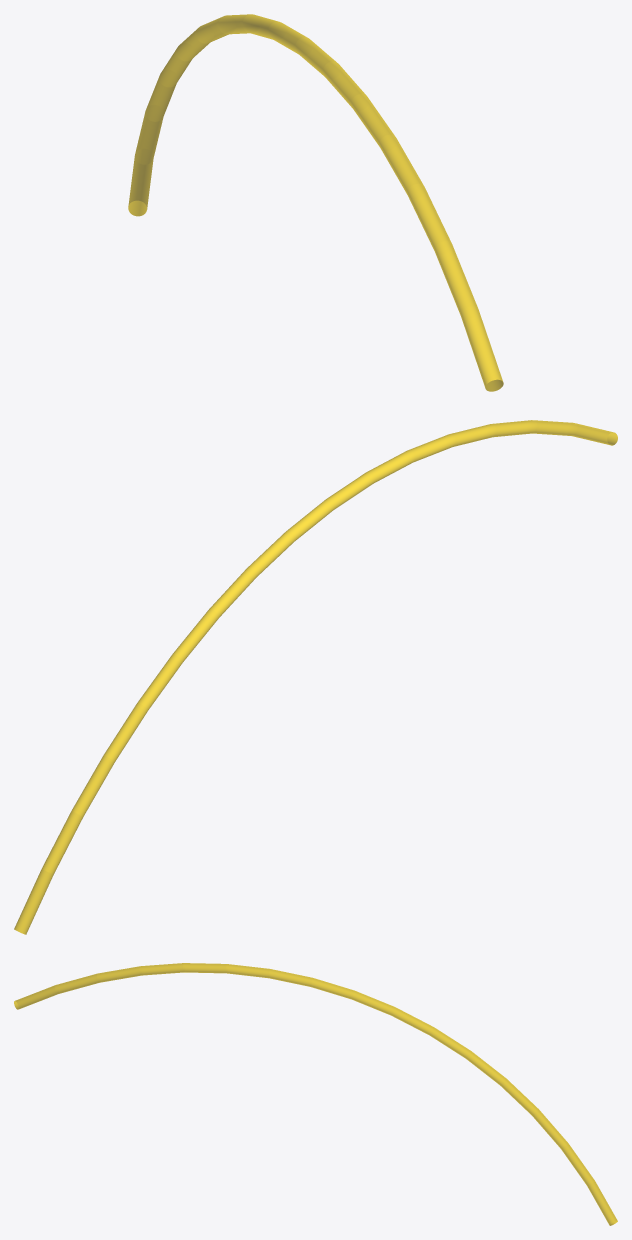
Rendered from Event_84804159_track_3.fbx.
The picture shows the model from 3 angles, top to bottom: view 1: azimuth 30°, elevation 25°; view 2: azimuth 150°, elevation 25°; view 3: azimuth 270°, elevation 25°; orthographic projection. The views are drawn at different scales.
Visible parts, largest first — view 1: Model; view 2: Model; view 3: Model.
Part boxes in pixels (box(x1,y1,x2,y2)): Model: box(128, 14, 503, 391); Model: box(14, 420, 617, 934); Model: box(14, 963, 617, 1225).
Bounding box in the file's own units: 0.6242 × 1.03 × 2.54.
